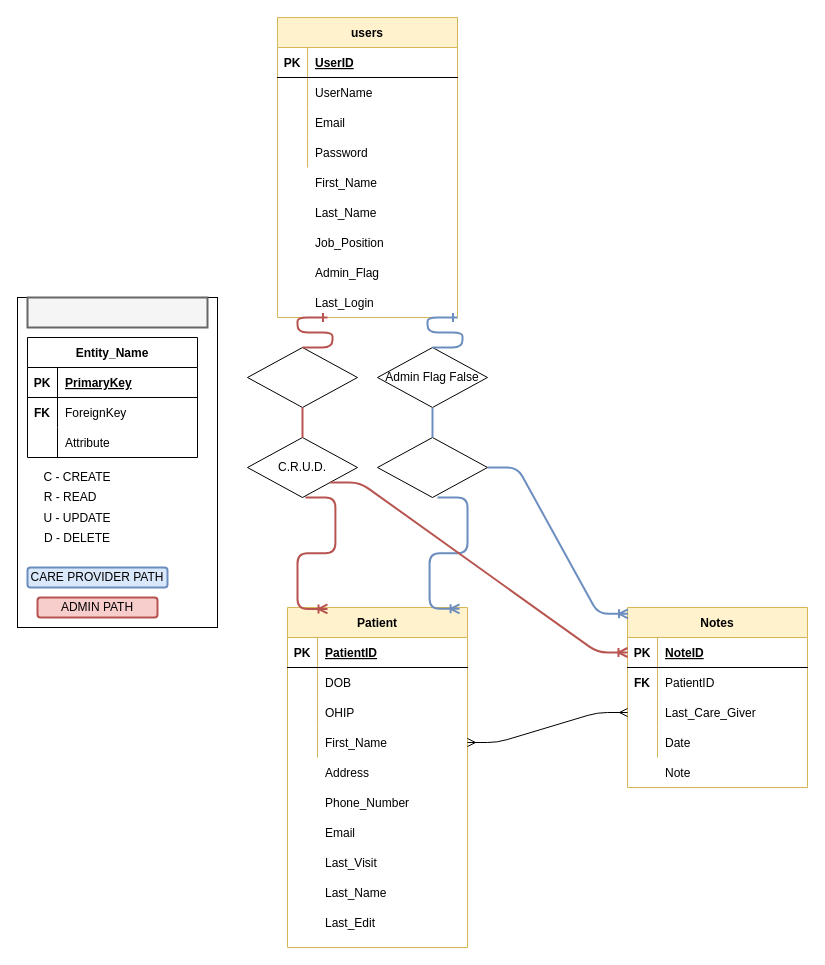
Image size: 825x965. Some labels were removed from this diagram. Each missing label, with the centre of its shape:
"Admin Flag True" belongs at point 302,377.
"LEGEND" belongs at point 117,312.
"R.U." belongs at point 432,467.
